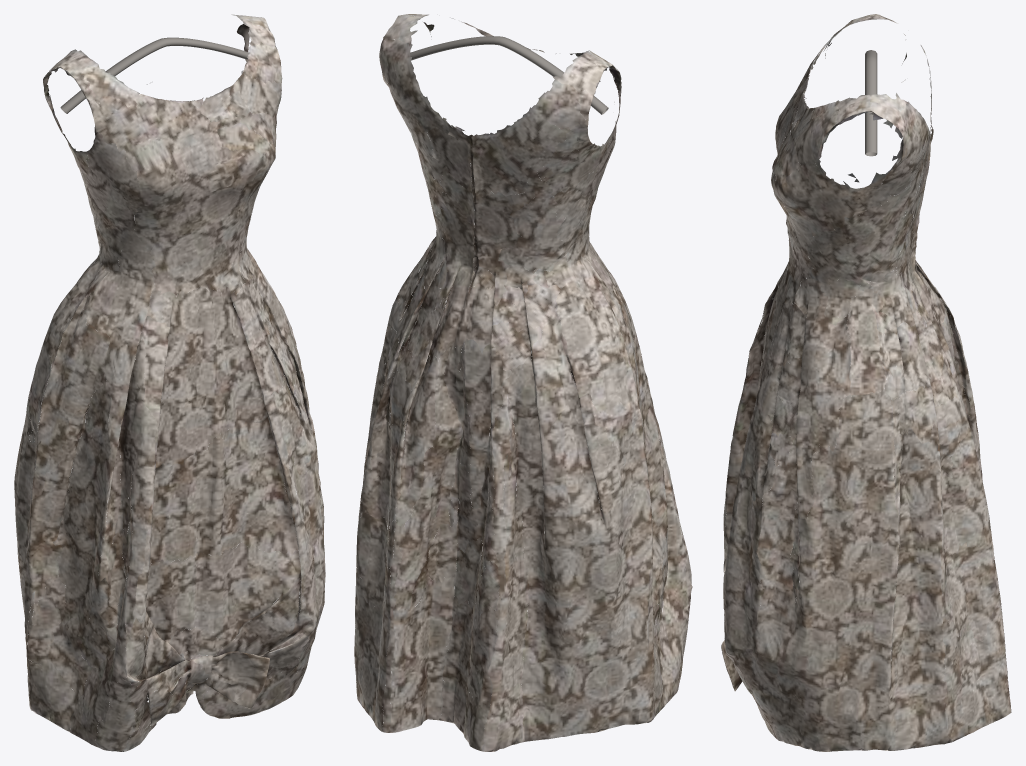
The model's file is dress_feedsack.glb.
3 renders of one model, left to right at view 1: azimuth 30°, elevation 25°; view 2: azimuth 150°, elevation 25°; view 3: azimuth 270°, elevation 25°, orthographic. The views are drawn at different scales.
Parts seen in each view (by area): view 1: dress_feedsack_cloth, dress_feedsack_hanger; view 2: dress_feedsack_cloth, dress_feedsack_hanger; view 3: dress_feedsack_cloth, dress_feedsack_hanger.
Boxes of the visible parts, x1,y1,x2,y2 form: dress_feedsack_cloth: (14, 14, 325, 751); dress_feedsack_hanger: (60, 37, 248, 113); dress_feedsack_cloth: (354, 14, 692, 751); dress_feedsack_hanger: (410, 36, 608, 114); dress_feedsack_cloth: (721, 14, 1011, 751); dress_feedsack_hanger: (865, 50, 877, 156).
Size of the model in its own units: 0.4325 by 0.9908 by 0.4036.
Materials: 2 (1 with a texture image).
